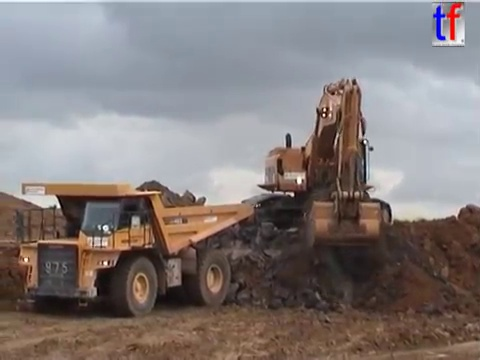excavator: (238, 75, 396, 250)
truck: (13, 180, 256, 319), (257, 191, 294, 227)
